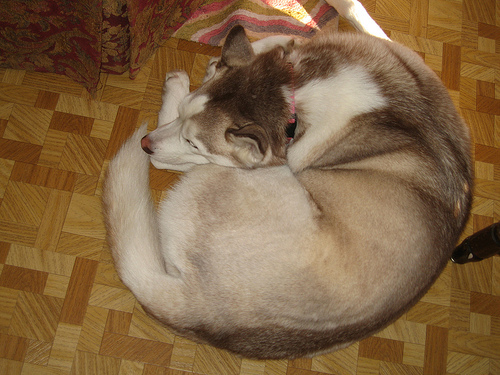dog: (98, 22, 476, 359)
